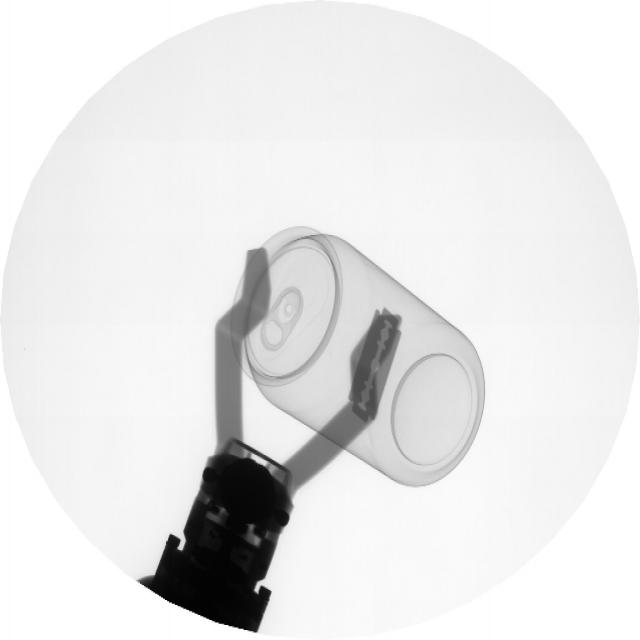BLADE: (346, 298, 406, 432)
